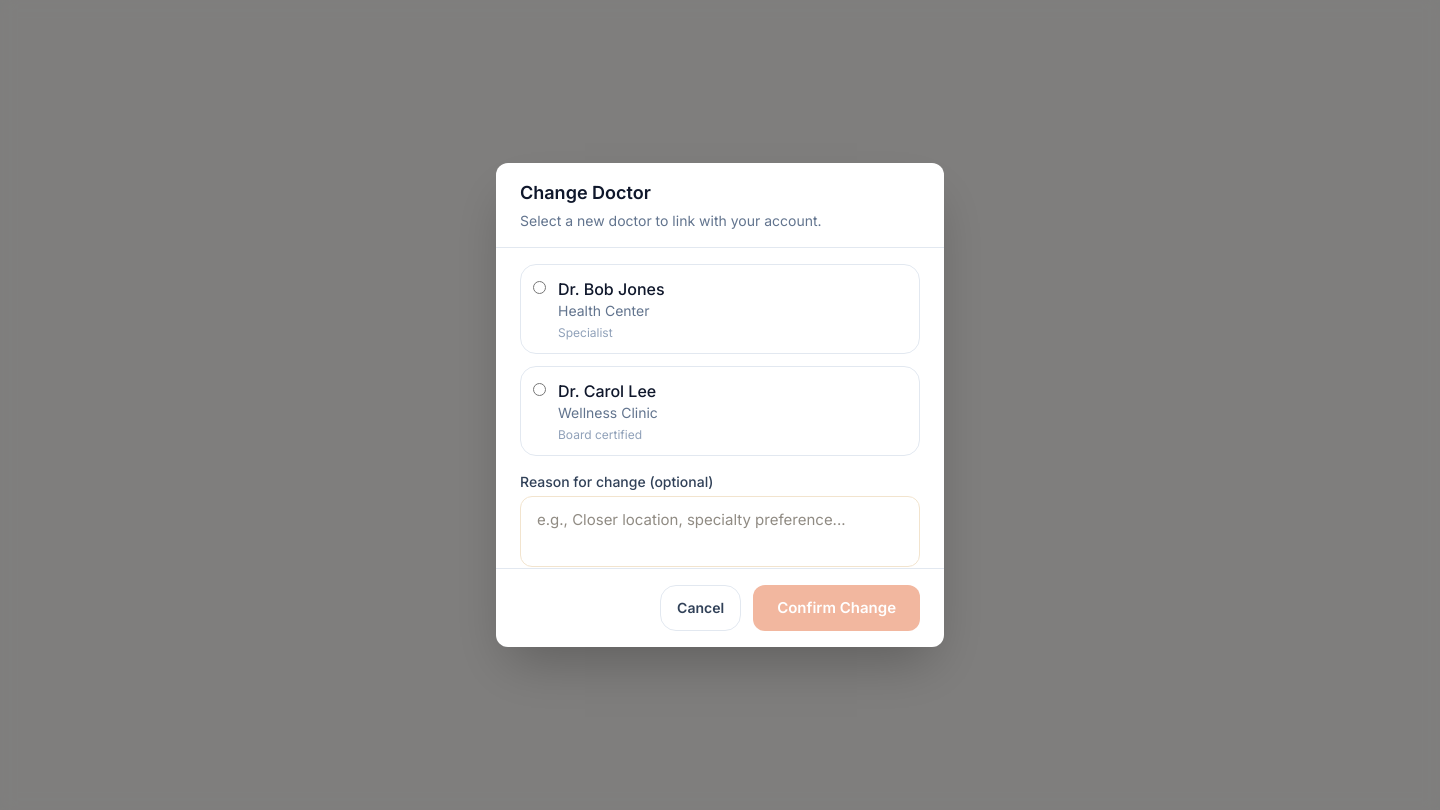
Test case: ChangeDoctorModal › Error Handling - Active Case Block › displays generic error for network failures
Expected: the text "Dr. Bob Jones" is shown, [558, 279, 664, 299]
Click the radio button labelled "Dr. Bob Jones Health Center Specialist".
click(540, 287)  # box [533, 281, 546, 294]
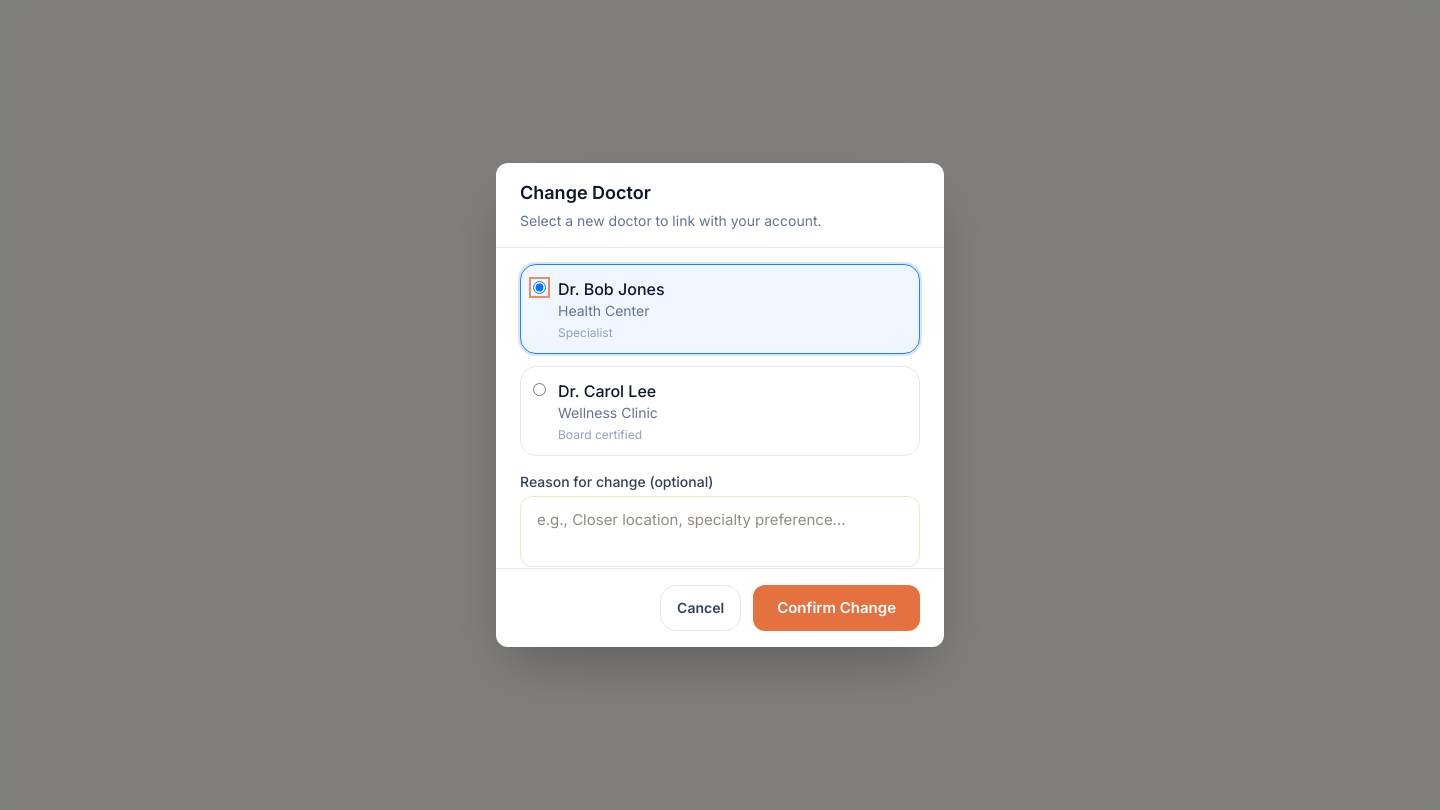
Click the button "Confirm Change".
click(837, 608)  # box [753, 585, 920, 631]
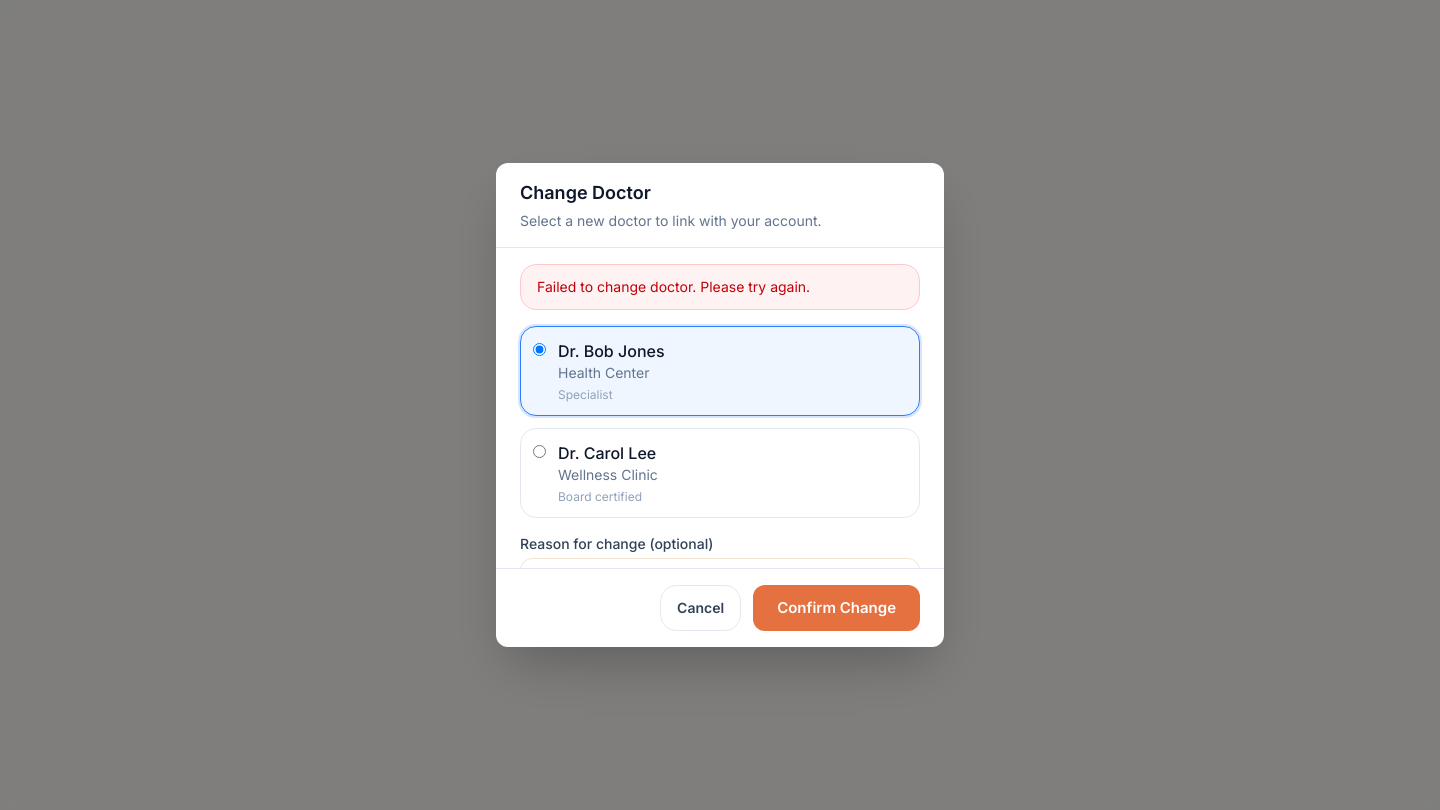
Expected: the text "Failed to change doctor. Please try again." is shown, [520, 264, 920, 310]
